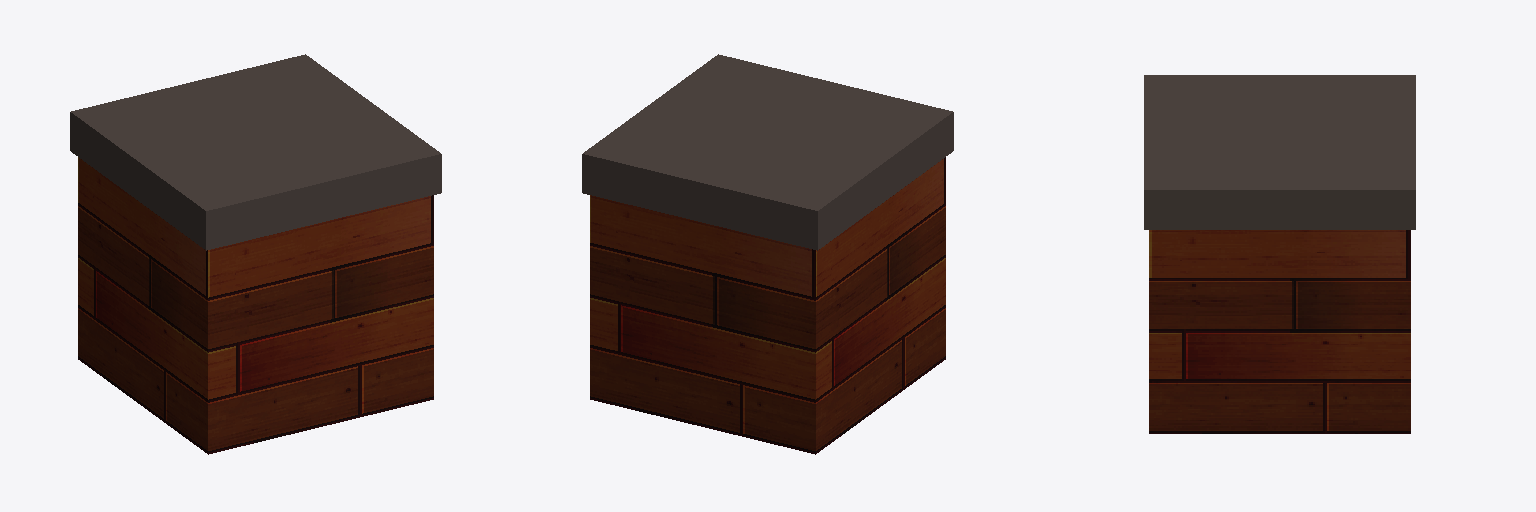
3 views of the same model, side by side, from view 1: azimuth 30°, elevation 25°; view 2: azimuth 150°, elevation 25°; view 3: azimuth 270°, elevation 25° (orthographic).
Visible parts, largest first — view 1: Object.1, Object.2; view 2: Object.1, Object.2; view 3: Object.1, Object.2.
Boxes of the visible parts, <box> form: Object.1: <box>78,157,433,454</box>; Object.2: <box>70,54,441,250</box>; Object.1: <box>590,157,945,454</box>; Object.2: <box>582,54,953,250</box>; Object.1: <box>1149,230,1410,433</box>; Object.2: <box>1144,75,1415,229</box>.
Bounding box in the file's own units: 1 × 1 × 1.
2 materials, 1 textured.